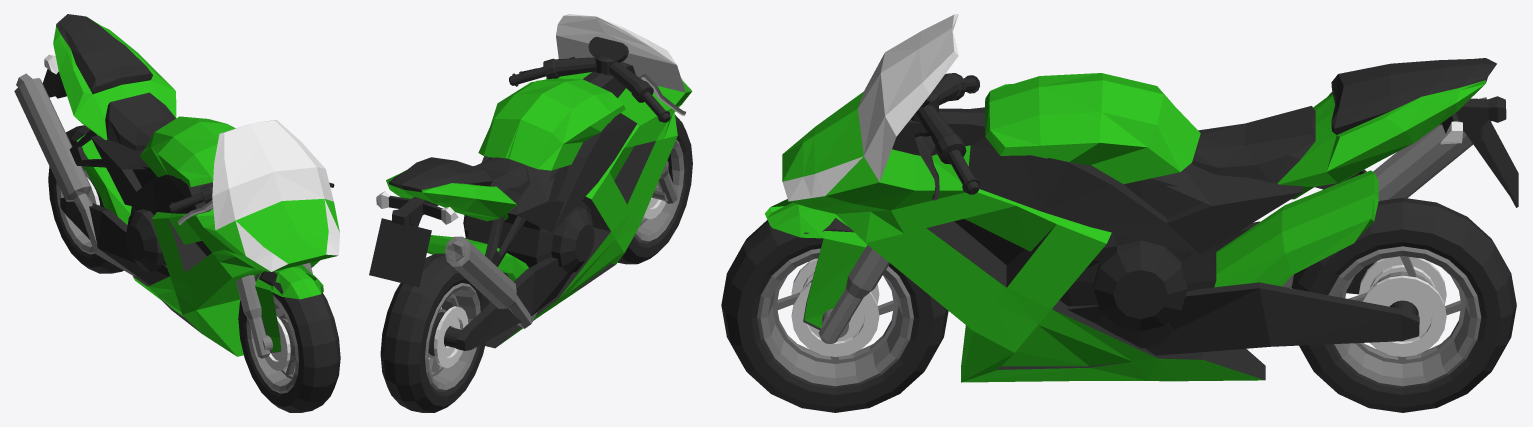
File: motorcycle-green.glb
3 renders of one model, left to right at view 1: azimuth 30°, elevation 25°; view 2: azimuth 150°, elevation 25°; view 3: azimuth 270°, elevation 25°, orthographic. The views are drawn at different scales.
Visible parts, largest first — view 1: Motorcycle; view 2: Motorcycle; view 3: Motorcycle.
Boxes of the visible parts, box(x1,y1,x2,y2) form: Motorcycle: box(14, 14, 340, 412); Motorcycle: box(369, 14, 692, 412); Motorcycle: box(721, 14, 1518, 412).
Size of the model in its own units: 0.7396 by 1.16 by 2.2.
Materials: 1 (1 with a texture image).
